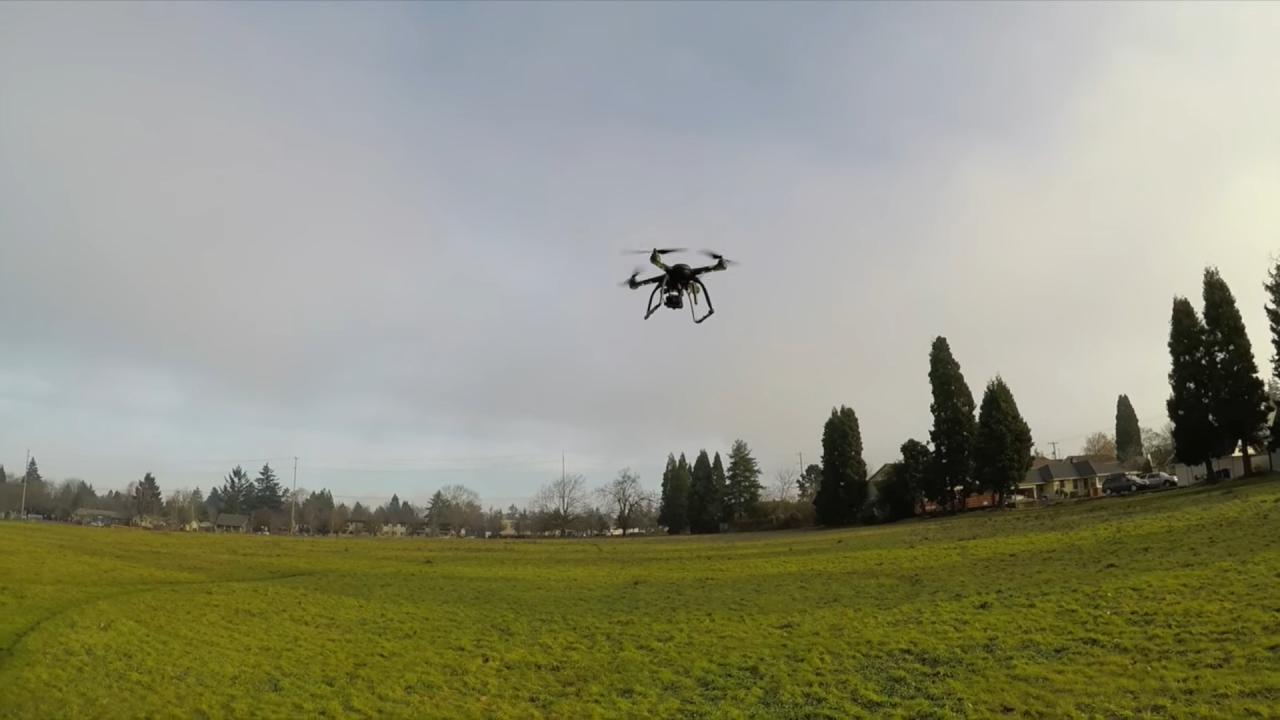Drone: (614, 241, 748, 333)
